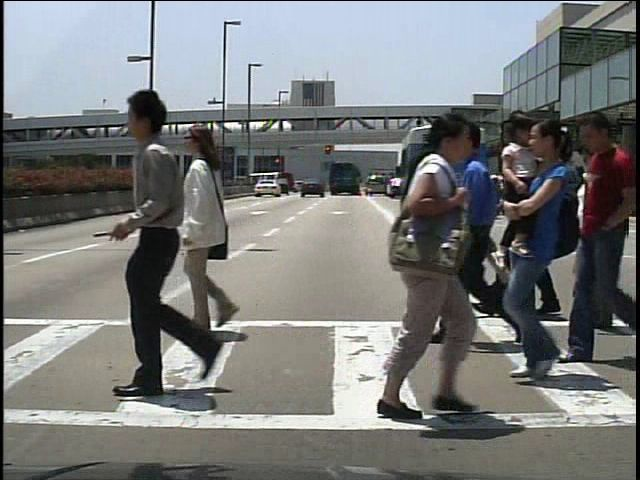person: (97, 79, 238, 407), (356, 112, 487, 425), (154, 119, 277, 343), (568, 107, 640, 373), (447, 116, 512, 342), (482, 130, 555, 322), (580, 143, 627, 345), (582, 168, 602, 218), (488, 162, 506, 215)
